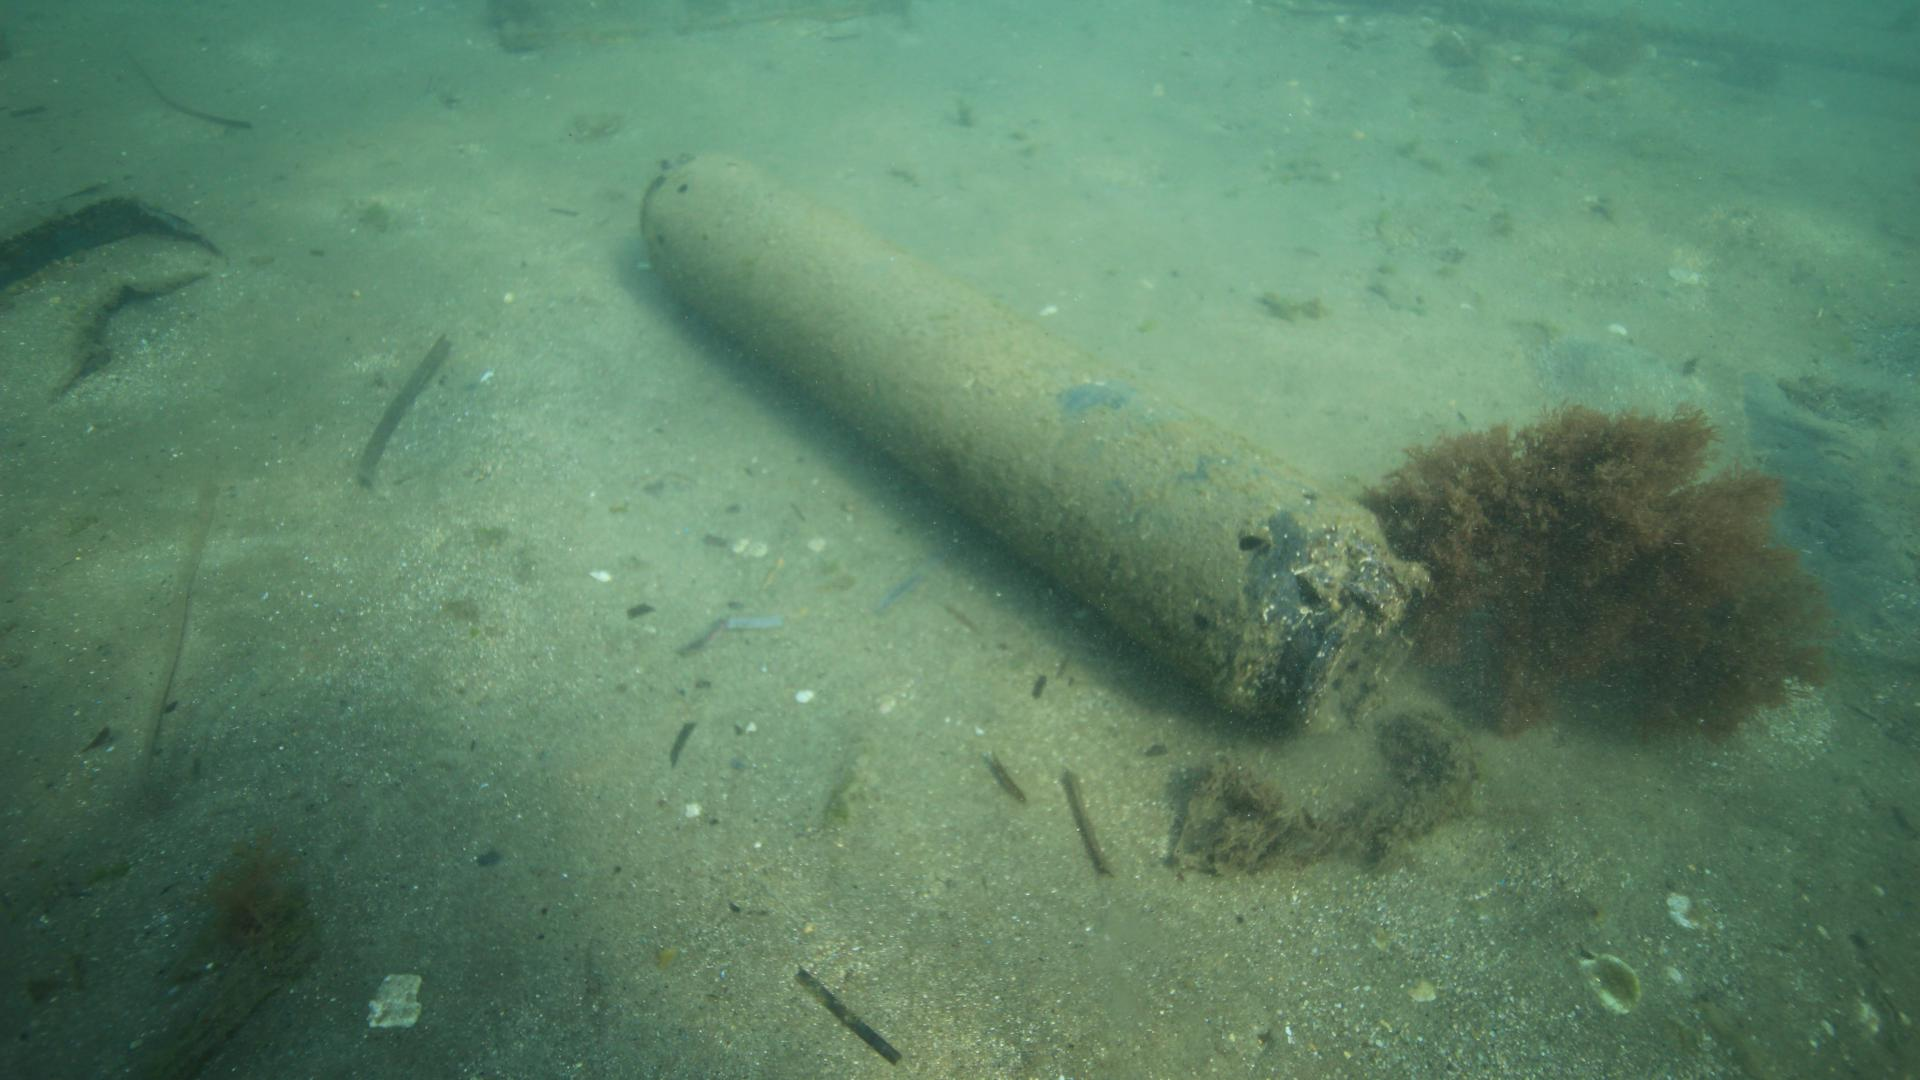eel fish trap: (640, 148, 1439, 733)
